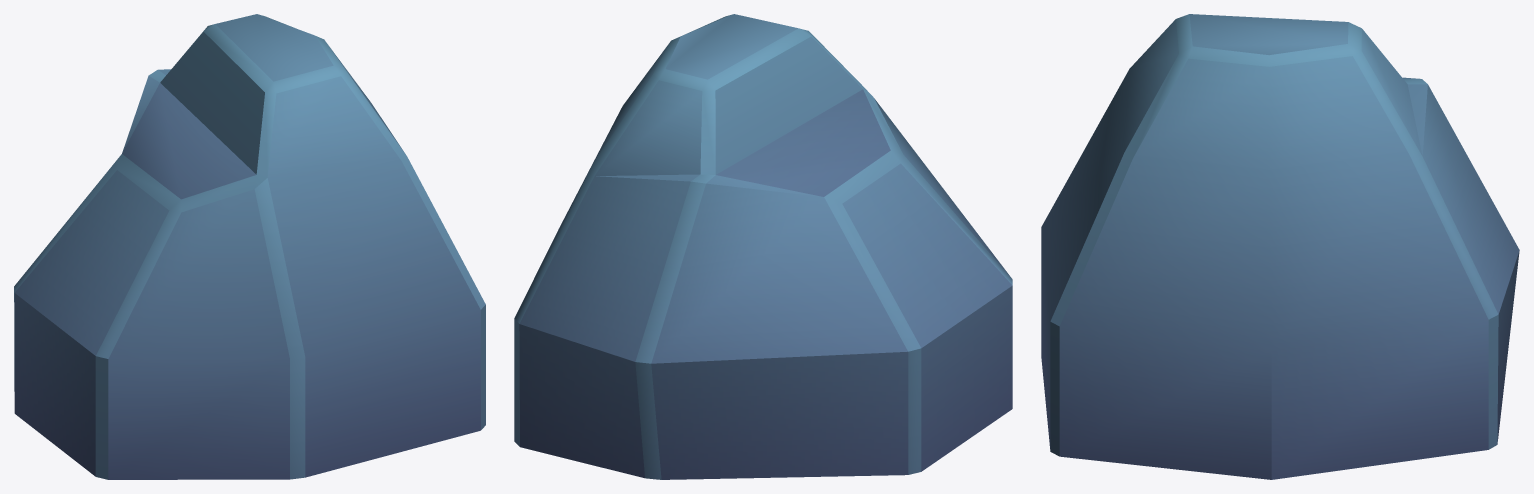
Rendered from Rock-3-3.fbx.
3 renders of one model, left to right at view 1: azimuth 30°, elevation 25°; view 2: azimuth 150°, elevation 25°; view 3: azimuth 270°, elevation 25°, orthographic. The views are drawn at different scales.
Visible parts, largest first — view 1: Rock-3-3; view 2: Rock-3-3; view 3: Rock-3-3.
Part boxes in pixels (<box>): Rock-3-3: <box>14,14,485,479</box>; Rock-3-3: <box>514,14,1012,479</box>; Rock-3-3: <box>1041,14,1519,479</box>.
Size of the model in its own units: 218 by 180 by 215.
